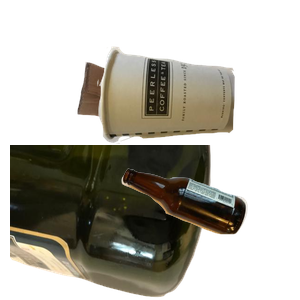cardboard: (75, 59, 237, 176)
glass: (119, 166, 300, 300)
plastic: (10, 145, 213, 300)
trash: (95, 44, 300, 180)
